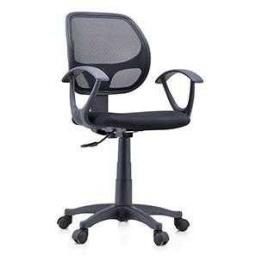Chair: (61, 14, 203, 245)
